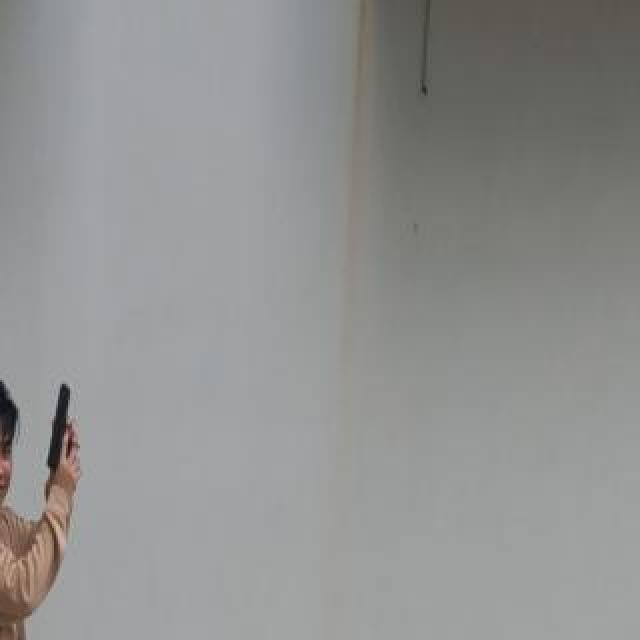Guns: (36, 378, 97, 503)
